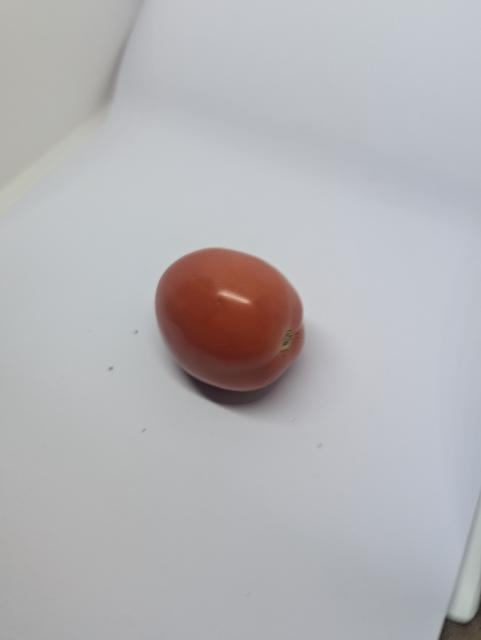red: (152, 245, 310, 396)
